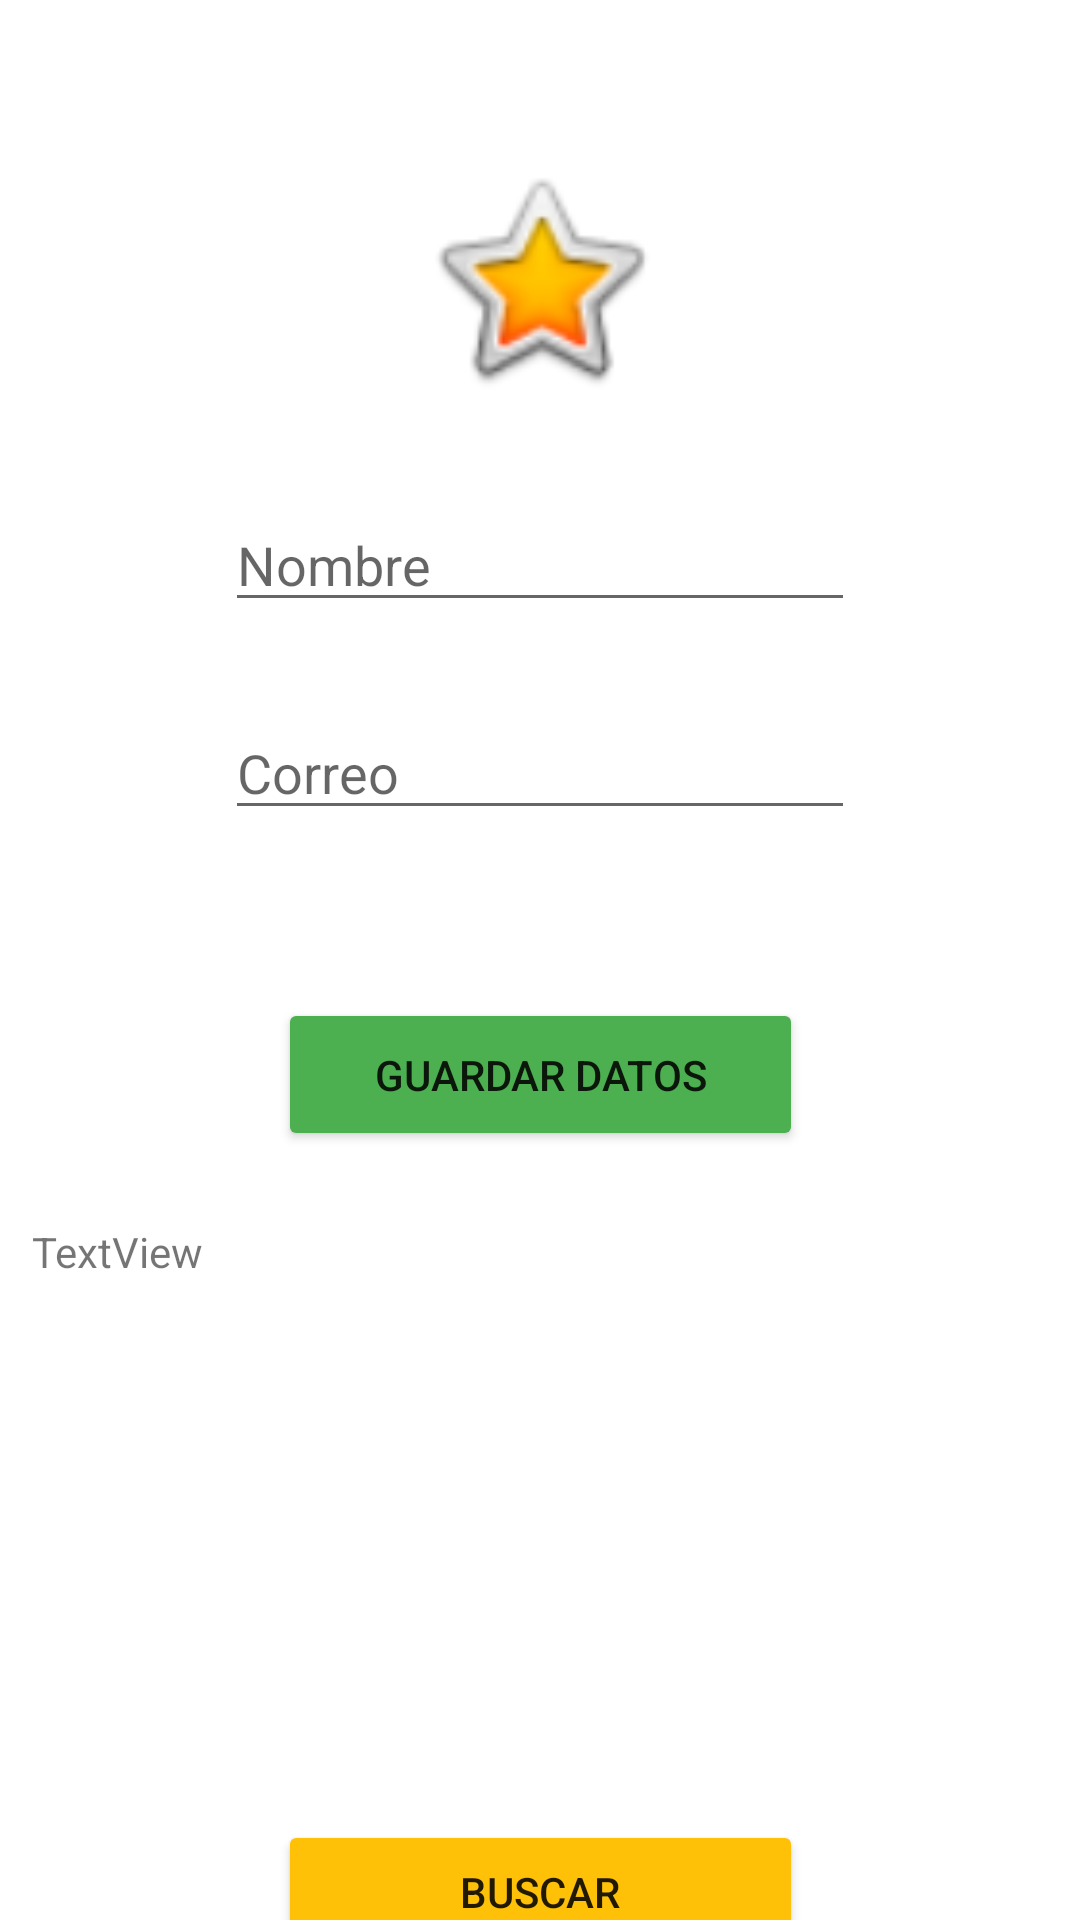

Where to tap for icons on this 1080*1920 app screen, as point (x, y):
star on: point (542, 281)
